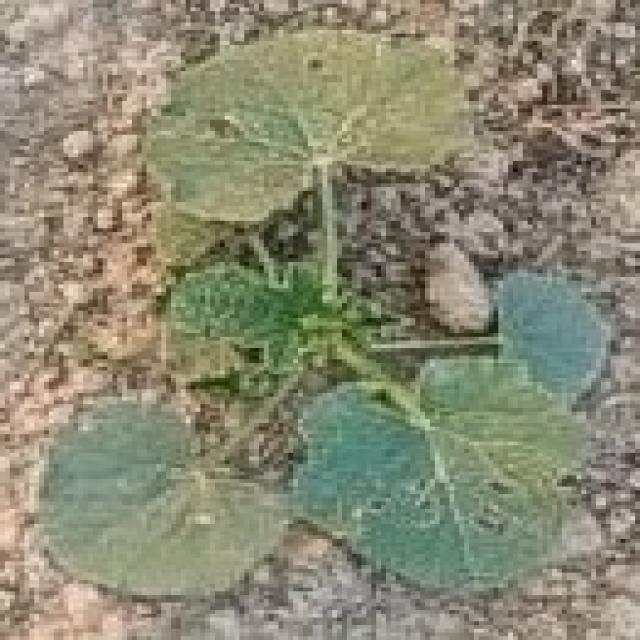plant: (46, 273, 609, 598), (152, 31, 462, 386)
